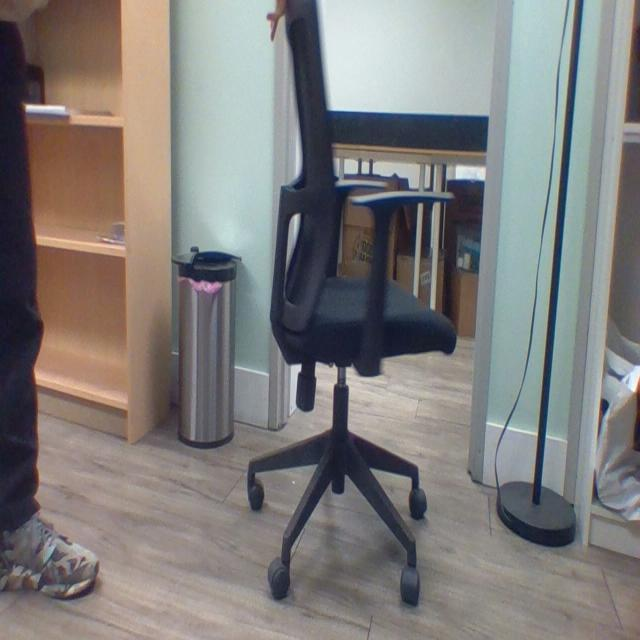chair: (216, 0, 475, 640)
